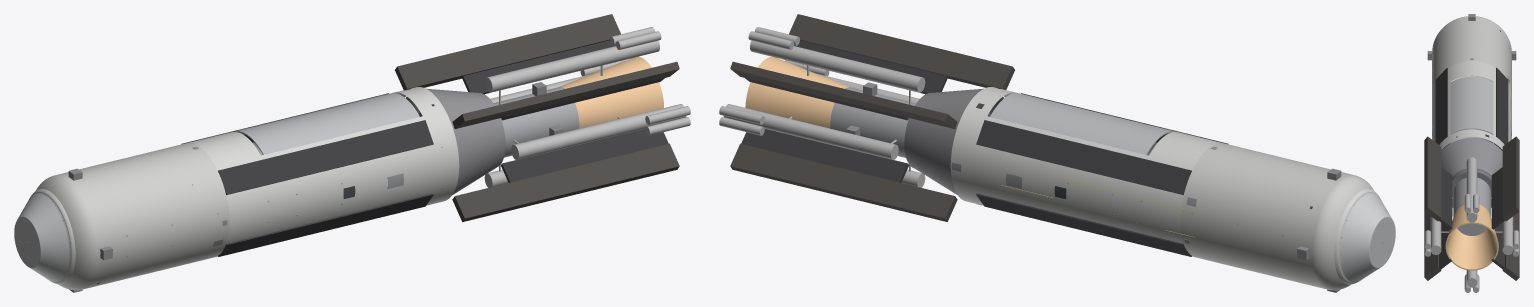
File: wayfarer_I4_in_out_78803b00.glb
3 views of the same model, side by side, from view 1: azimuth 30°, elevation 25°; view 2: azimuth 150°, elevation 25°; view 3: azimuth 270°, elevation 25° (orthographic). The views are drawn at different scales.
Visible parts, largest first — view 1: Exterior, crown closed/hull_armor, Exterior, crown closed/hull_skin, Exterior, crown closed/hotfin, Exterior, crown closed/radiator, Exterior, crown closed/metric, Exterior, crown closed/door, Exterior, crown closed/thrust_cone, Exterior, crown closed/crown_tambour, Exterior, crown closed/nozzle, Exterior, crown closed/reactor, Exterior, crown closed/crown_brow, Exterior, crown closed/rcs; view 2: Exterior, crown closed/hull_armor, Exterior, crown closed/hotfin, Exterior, crown closed/hull_skin, Exterior, crown closed/radiator, Exterior, crown closed/metric, Exterior, crown closed/door, Exterior, crown closed/thrust_cone, Exterior, crown closed/crown_tambour, Exterior, crown closed/nozzle, Exterior, crown closed/reactor, Exterior, crown closed/crown_brow, Exterior, crown closed/rcs; view 3: Exterior, crown closed/radiator, Exterior, crown closed/hotfin, Exterior, crown closed/hull_armor, Exterior, crown closed/door, Exterior, crown closed/nozzle, Exterior, crown closed/metric, Exterior, crown closed/hull_skin, Exterior, crown closed/thrust_cone, Exterior, crown closed/reactor, Exterior, crown closed/shield, Exterior, crown closed/rcs.
Part boxes in pixels (x1,y1,x2,y2): Exterior, crown closed/hull_armor: [36, 143, 229, 290]; Exterior, crown closed/hull_skin: [188, 87, 459, 256]; Exterior, crown closed/hotfin: [395, 14, 679, 221]; Exterior, crown closed/radiator: [181, 40, 668, 256]; Exterior, crown closed/metric: [484, 27, 690, 187]; Exterior, crown closed/door: [233, 93, 419, 154]; Exterior, crown closed/thrust_cone: [406, 88, 505, 194]; Exterior, crown closed/crown_tambour: [14, 193, 70, 282]; Exterior, crown closed/nozzle: [560, 56, 663, 128]; Exterior, crown closed/reactor: [493, 87, 579, 157]; Exterior, crown closed/crown_brow: [29, 189, 75, 284]; Exterior, crown closed/rcs: [68, 82, 563, 292]; Exterior, crown closed/hull_armor: [1180, 143, 1373, 290]; Exterior, crown closed/hotfin: [730, 14, 1014, 221]; Exterior, crown closed/hull_skin: [950, 87, 1221, 256]; Exterior, crown closed/radiator: [741, 40, 1228, 256]; Exterior, crown closed/metric: [719, 27, 925, 187]; Exterior, crown closed/door: [990, 93, 1176, 154]; Exterior, crown closed/thrust_cone: [904, 88, 1003, 194]; Exterior, crown closed/crown_tambour: [1339, 193, 1395, 282]; Exterior, crown closed/nozzle: [745, 57, 849, 128]; Exterior, crown closed/reactor: [830, 87, 915, 157]; Exterior, crown closed/crown_brow: [1334, 189, 1380, 284]; Exterior, crown closed/rcs: [846, 82, 1341, 292]; Exterior, crown closed/radiator: [1435, 68, 1508, 269]; Exterior, crown closed/hotfin: [1424, 136, 1519, 280]; Exterior, crown closed/hull_armor: [1432, 16, 1511, 129]; Exterior, crown closed/door: [1450, 76, 1493, 134]; Exterior, crown closed/nozzle: [1445, 204, 1498, 270]; Exterior, crown closed/metric: [1425, 157, 1518, 292]; Exterior, crown closed/hull_skin: [1432, 60, 1511, 149]; Exterior, crown closed/thrust_cone: [1441, 137, 1502, 207]; Exterior, crown closed/reactor: [1453, 177, 1490, 235]; Exterior, crown closed/shield: [1452, 169, 1491, 207]; Exterior, crown closed/rcs: [1427, 14, 1516, 215].
Size of the model in its own units: 55.61 by 10.62 by 10.73.
